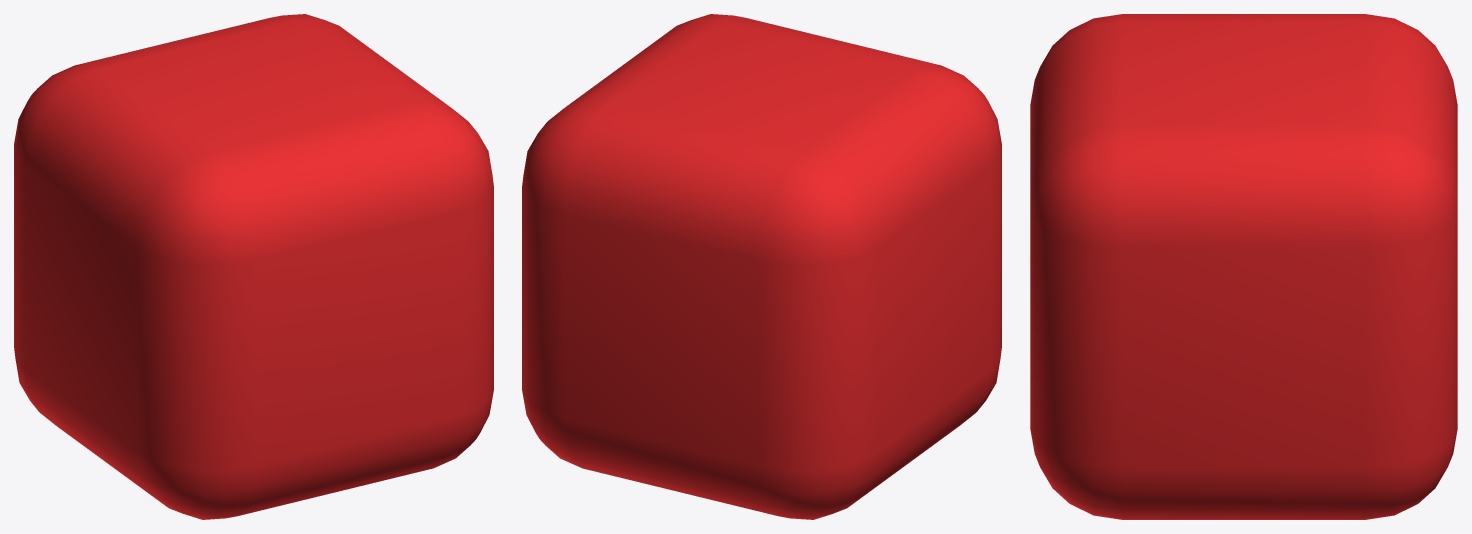
Rendered from MDL_Cube.fbx.
3 renders of one model, left to right at view 1: azimuth 30°, elevation 25°; view 2: azimuth 150°, elevation 25°; view 3: azimuth 270°, elevation 25°, orthographic. The views are drawn at different scales.
Visible parts, largest first — view 1: Cube; view 2: Cube; view 3: Cube.
Part boxes in pixels (<box>): Cube: <box>14,14,493,519</box>; Cube: <box>522,14,1001,519</box>; Cube: <box>1030,14,1457,519</box>.
Bounding box in the file's own units: 0.9174 × 0.9174 × 0.9174.
